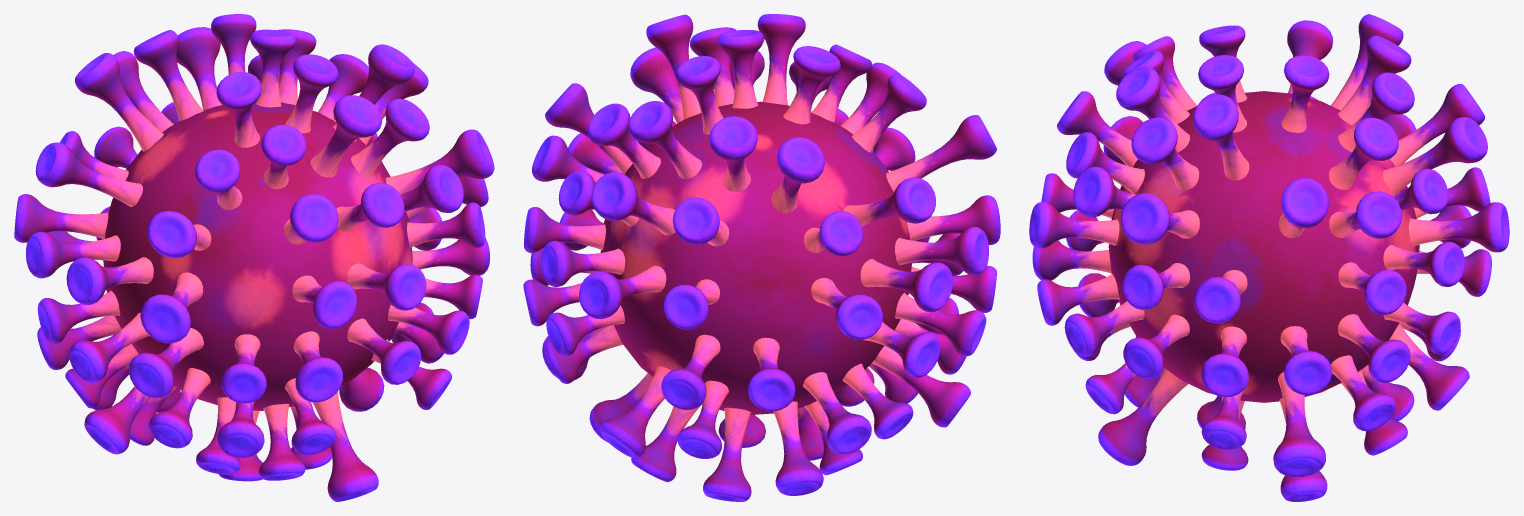
Rendered from Coronavirus.fbx.
3 renders of one model, left to right at view 1: azimuth 30°, elevation 25°; view 2: azimuth 150°, elevation 25°; view 3: azimuth 270°, elevation 25°, orthographic.
Parts seen in each view (by area): view 1: Corona; view 2: Corona; view 3: Corona.
Part boxes in pixels (box(x1,y1,x2,y2)): Corona: box(14, 14, 494, 501); Corona: box(523, 14, 1000, 501); Corona: box(1029, 14, 1509, 501).
Bounding box in the file's own units: 7.53 × 7.08 × 7.56.
1 material, 1 textured.
